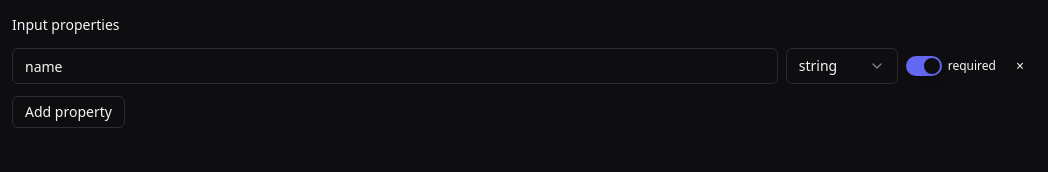
ToolFields › keeps the property-name input focused across multiple keystrokes while renaming
The width and height of the screenshot is (1048, 172).
Type "-new" into the field showing "name" at (395, 66), box x1=12 y1=48 x2=778 y2=84
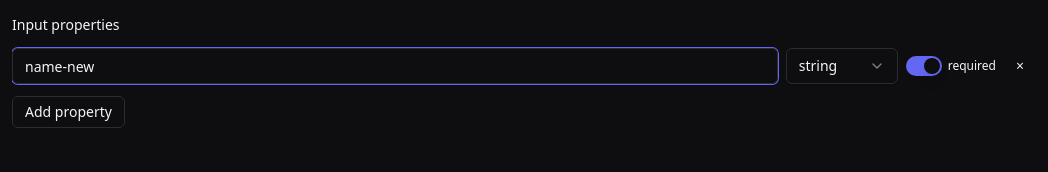
Expected: the field showing "name-new" is shown, x1=12 y1=48 x2=778 y2=84
